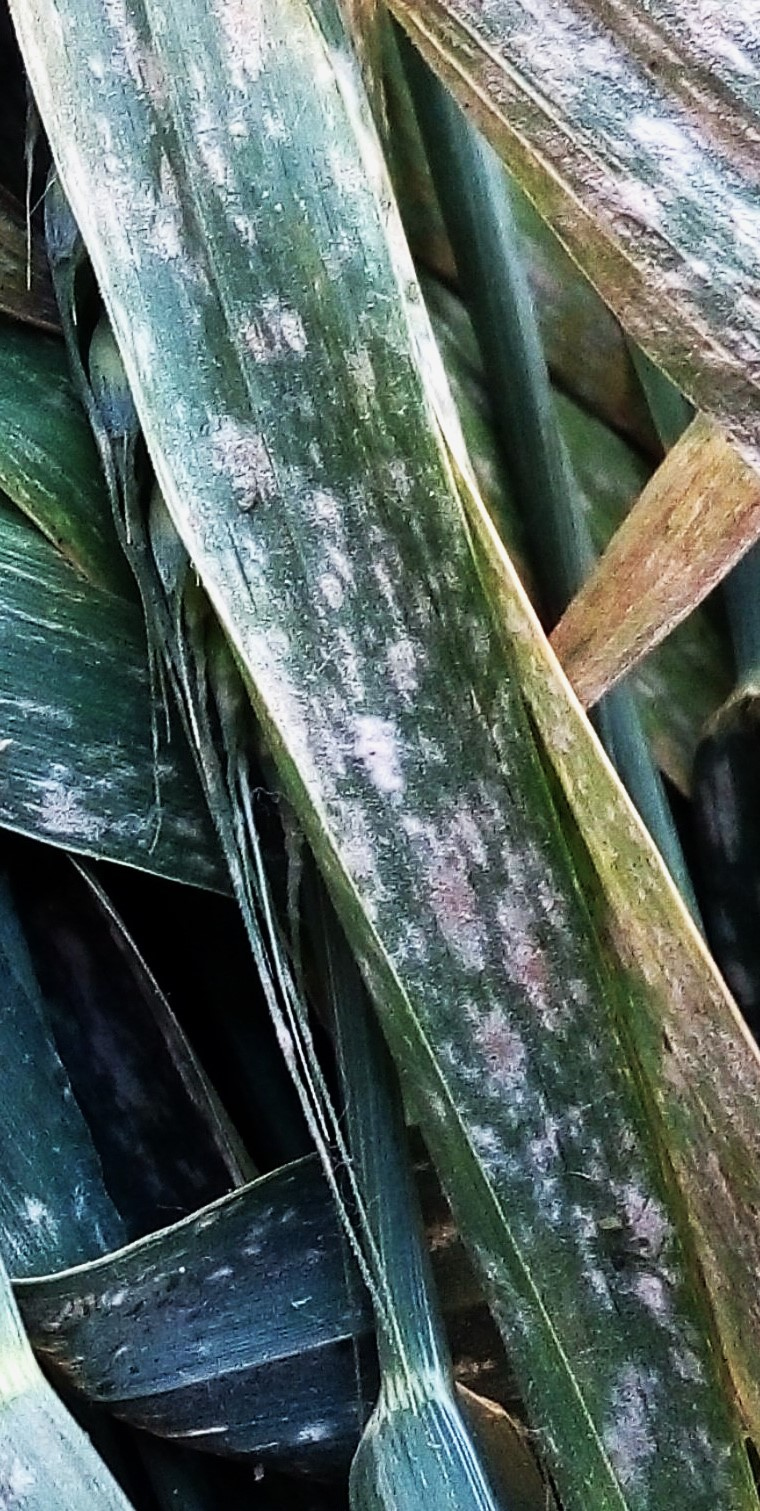Powdery Mildew: (182, 231, 616, 1059)
